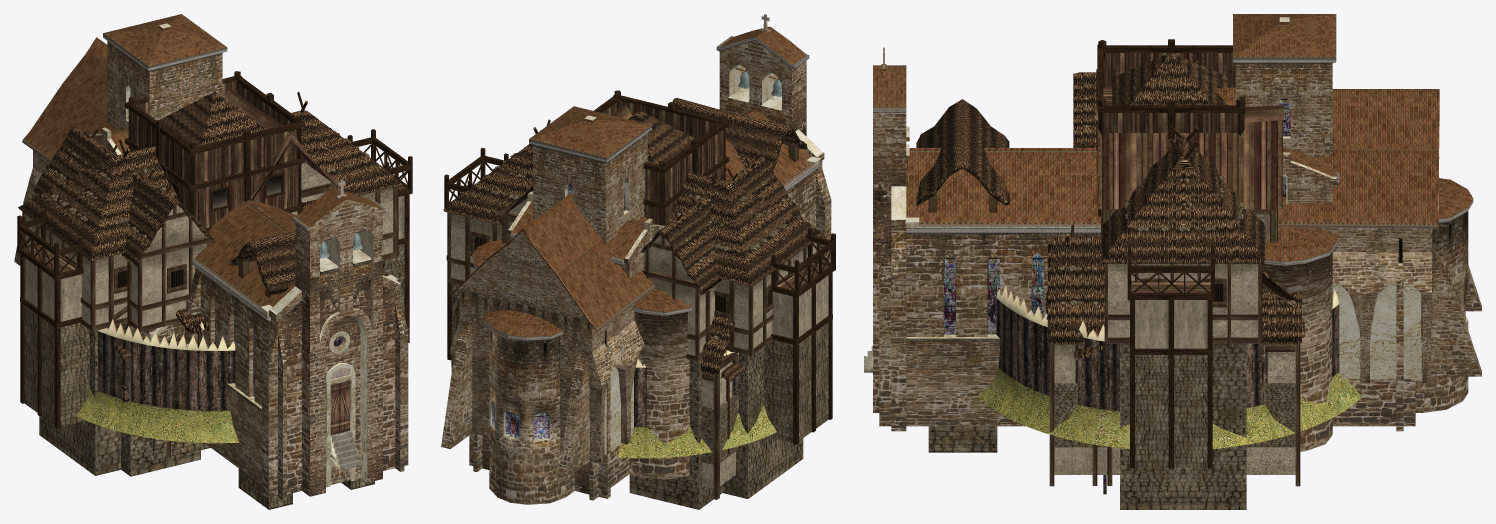
Rendered from architecture.gltf.
3 views of the same model, side by side, from view 1: azimuth 30°, elevation 25°; view 2: azimuth 150°, elevation 25°; view 3: azimuth 270°, elevation 25° (orthographic). The views are drawn at different scales.
Parts seen in each view (by area): view 1: caro_church, caro_civil_centre, caro_wall_gate, caro_fortress_struct, caro_market, caro_wall_long, caro_fortress_struct_02, caro_abbey, caro_wall_tower, caro_stable; view 2: caro_church, caro_abbey, caro_civil_centre, caro_market, caro_wall_gate, caro_wall_long, caro_farmstead, caro_fortress_struct_02, caro_fortress_struct, caro_wall_tower; view 3: caro_church, caro_abbey, caro_civil_centre, caro_fortress_struct_02, caro_fortress_struct, caro_farmstead, caro_wall_long, caro_wall_gate, caro_wall_tower, caro_market.
Boxes of the visible parts, x1,y1,x2,y2 form: caro_church: (88, 14, 408, 500); caro_civil_centre: (18, 92, 402, 475); caro_wall_gate: (17, 71, 412, 417); caro_fortress_struct: (76, 319, 239, 443); caro_market: (34, 126, 215, 476); caro_wall_long: (18, 129, 412, 428); caro_fortress_struct_02: (223, 87, 384, 509); caro_abbey: (14, 37, 189, 265); caro_wall_tower: (160, 91, 266, 146); caro_stable: (176, 308, 209, 344); caro_church: (469, 14, 831, 504); caro_abbey: (441, 192, 655, 477); caro_civil_centre: (443, 119, 824, 498); caro_market: (629, 157, 802, 509); caro_wall_gate: (446, 90, 835, 433); caro_wall_long: (444, 147, 835, 444); caro_farmstead: (455, 303, 738, 499); caro_fortress_struct_02: (497, 98, 807, 243); caro_fortress_struct: (617, 350, 776, 458); caro_wall_tower: (628, 110, 694, 165); caro_church: (864, 14, 1473, 451); caro_abbey: (1213, 88, 1481, 382); caro_civil_centre: (1074, 61, 1265, 509); caro_fortress_struct_02: (916, 99, 1284, 452); caro_fortress_struct: (979, 285, 1361, 449); caro_farmstead: (1047, 224, 1304, 486); caro_wall_long: (1127, 244, 1214, 468); caro_wall_gate: (1096, 39, 1245, 355); caro_wall_tower: (1112, 52, 1229, 105); caro_market: (1073, 72, 1292, 494).
Bounding box in the file's own units: 35.37 × 34.53 × 46.77.
